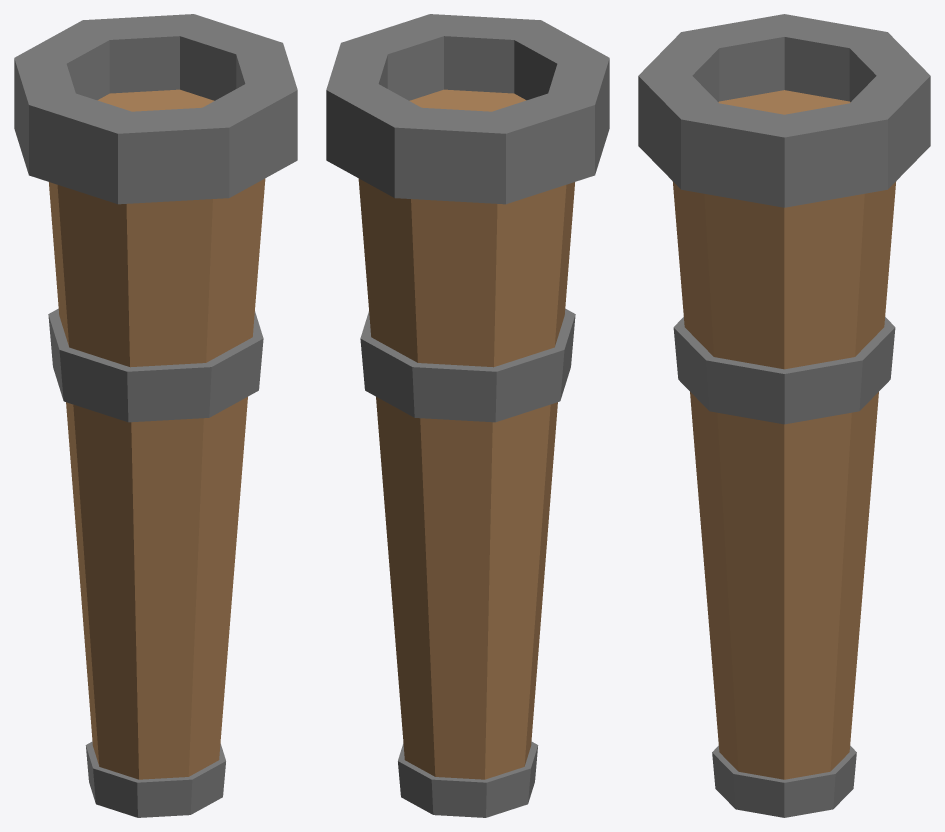
Rendered from torch.fbx.
3 renders of one model, left to right at view 1: azimuth 30°, elevation 25°; view 2: azimuth 150°, elevation 25°; view 3: azimuth 270°, elevation 25°, orthographic.
Parts seen in each view (by area): view 1: torch; view 2: torch; view 3: torch.
Boxes of the visible parts, <box> form: torch: <box>14,14,297,817</box>; torch: <box>326,14,609,817</box>; torch: <box>638,14,930,817</box>.
Bounding box in the file's own units: 35.52 × 95.58 × 35.52.
